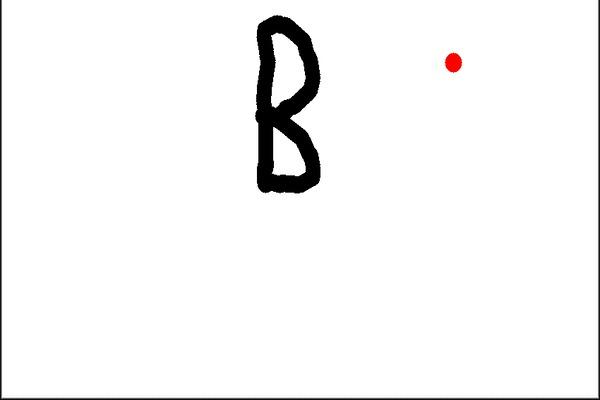B: (247, 9, 328, 199)
